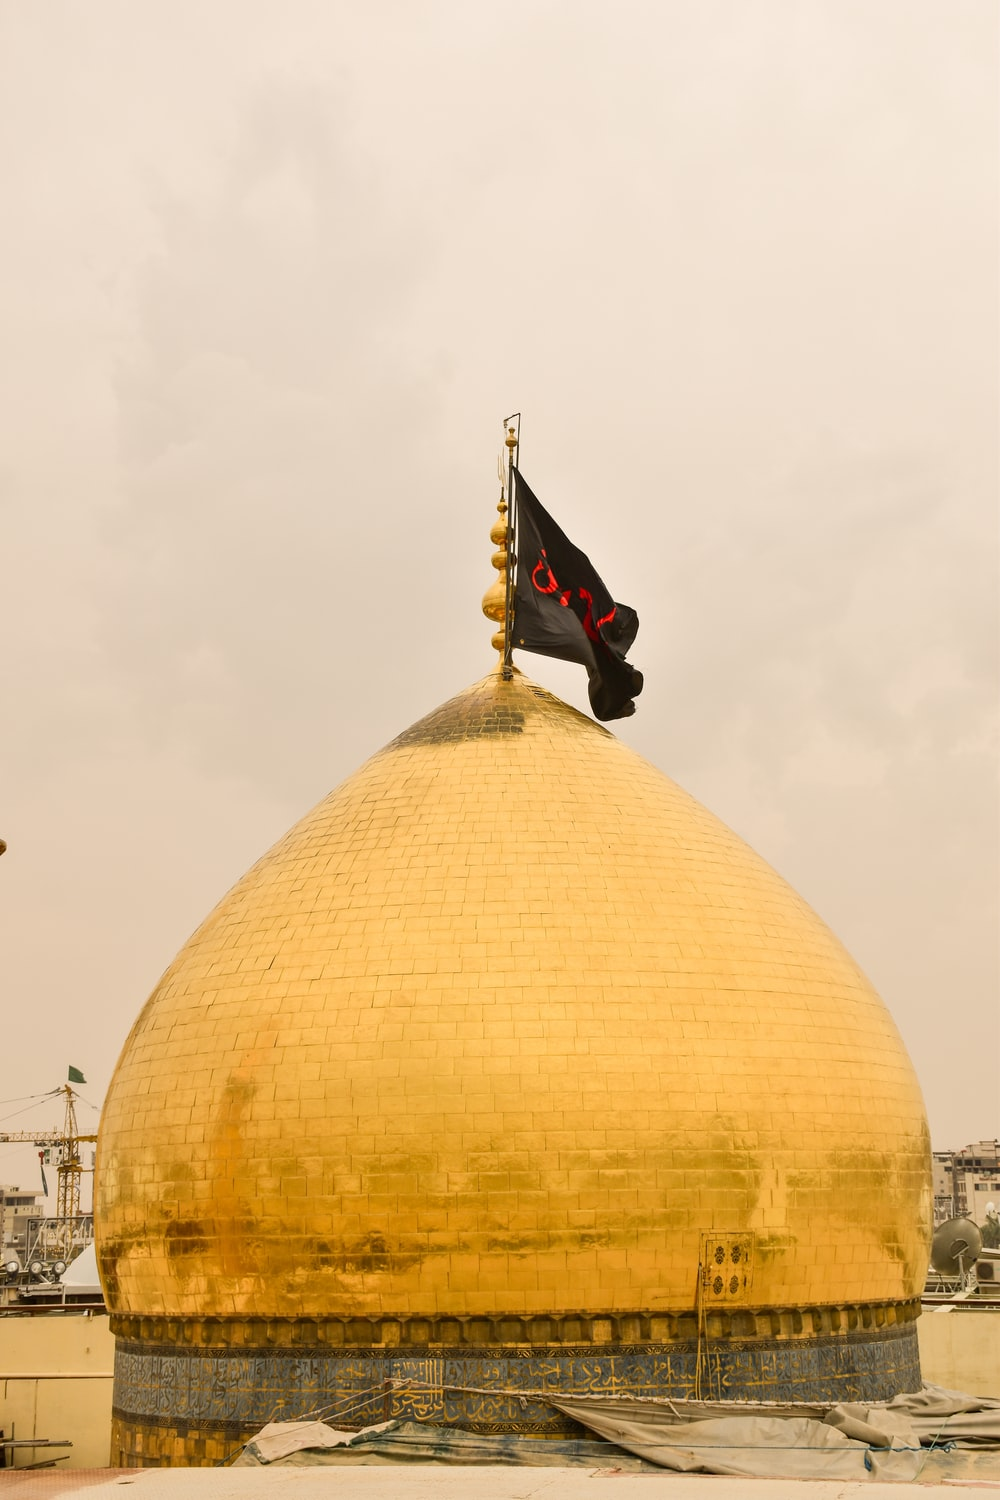Mosque: (39, 396, 975, 1441)
